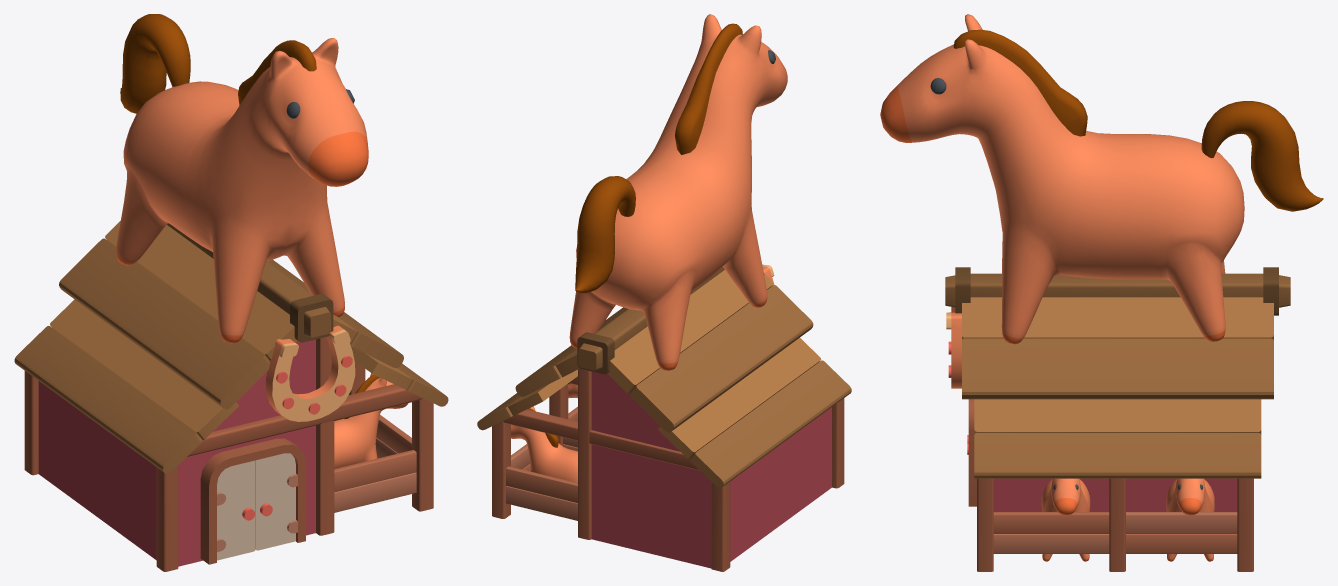
Rendered from Horse House.fbx.
The picture shows the model from 3 angles, left to right: view 1: azimuth 30°, elevation 25°; view 2: azimuth 150°, elevation 25°; view 3: azimuth 270°, elevation 25°; orthographic projection. The views are drawn at different scales.
Parts seen in each view (by area): view 1: Horse House, Horse House.001, Horse House.002, Horse House.003; view 2: Horse House, Horse House.001, Horse House.004; view 3: Horse House, Horse House.001, Horse House.003, Horse House.004, Horse House.002.
Part boxes in pixels (left/top/right/bottom): Horse House: left=14, top=221, right=448, bottom=571; Horse House.001: left=116, top=14, right=368, bottom=343; Horse House.002: left=266, top=325, right=355, bottom=421; Horse House.003: left=334, top=373, right=408, bottom=468; Horse House: left=477, top=266, right=851, bottom=571; Horse House.001: left=569, top=14, right=787, bottom=370; Horse House.004: left=511, top=406, right=577, bottom=482; Horse House: left=945, top=267, right=1290, bottom=571; Horse House.001: left=880, top=14, right=1323, bottom=344; Horse House.003: left=1041, top=478, right=1090, bottom=561; Horse House.004: left=1166, top=478, right=1214, bottom=561; Horse House.002: left=946, top=307, right=961, bottom=388.
Bounding box in the file's own units: 7.75 × 12.64 × 10.55.
